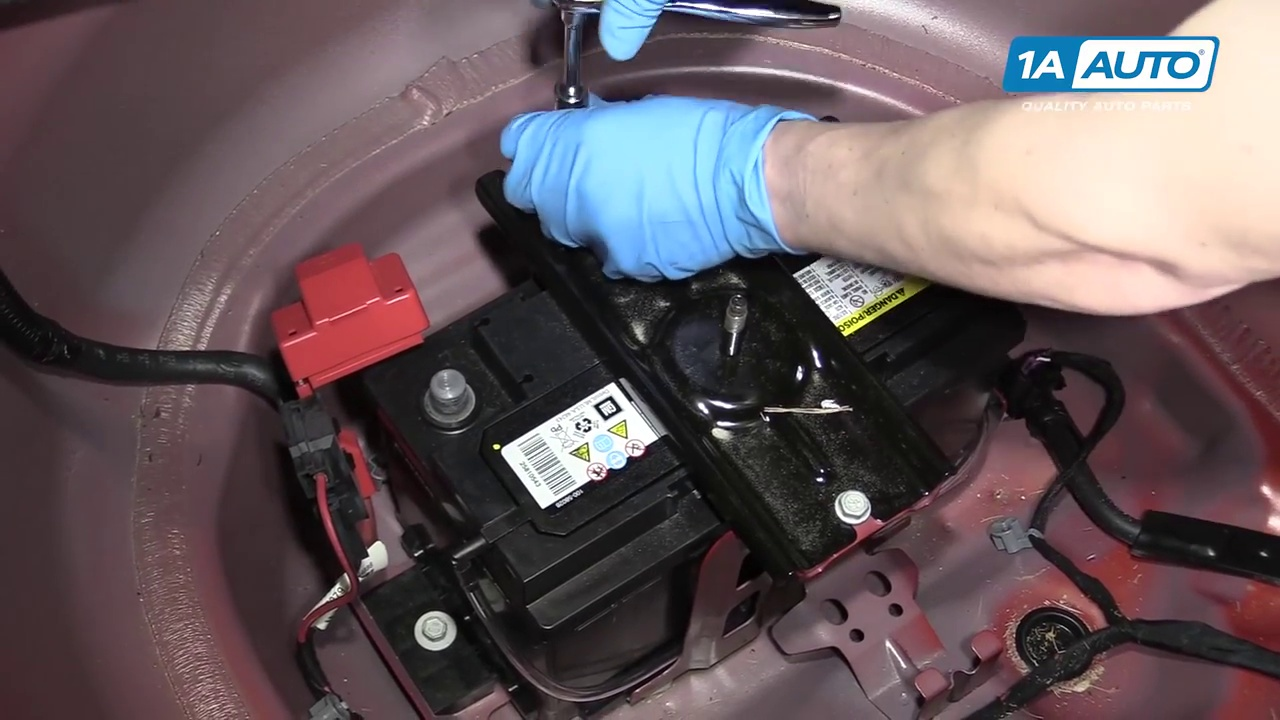battery: (370, 207, 1027, 596)
pos_disconnected: (277, 235, 487, 449)
